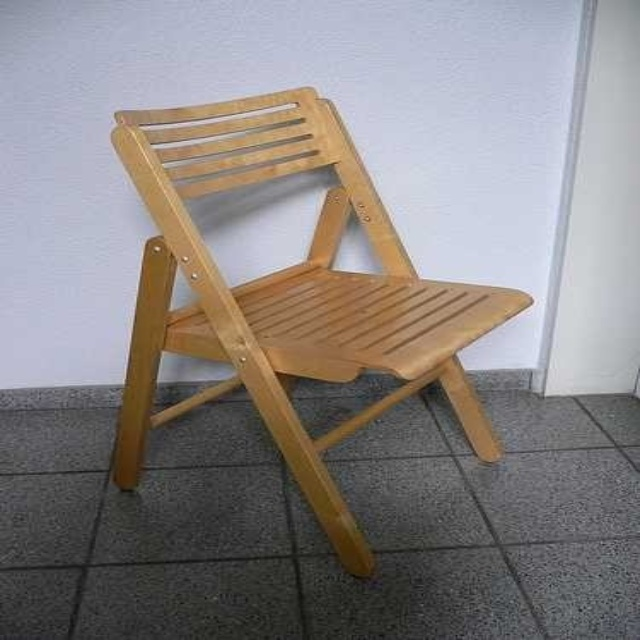obstacle: (111, 87, 531, 575)
